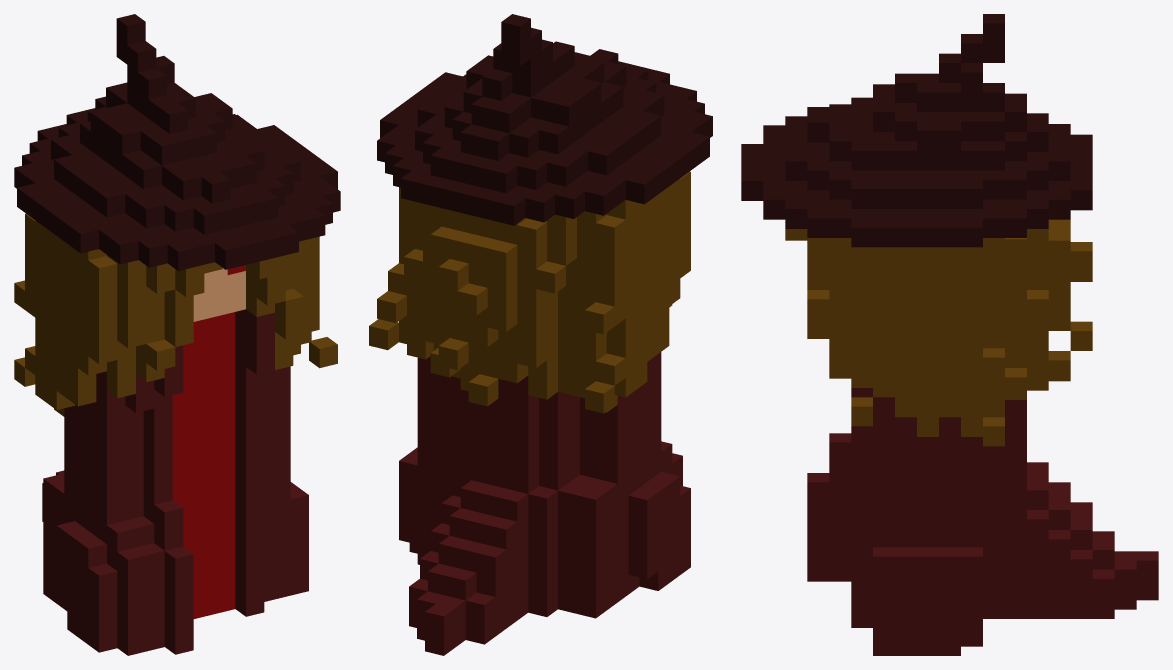
The model's file is Bruxa 02 - Andando-04.obj.
3 renders of one model, left to right at view 1: azimuth 30°, elevation 25°; view 2: azimuth 150°, elevation 25°; view 3: azimuth 270°, elevation 25°, orthographic. The views are drawn at different scales.
Bounding box in the file's own units: 14 × 29 × 19.
1 material, 1 textured.
